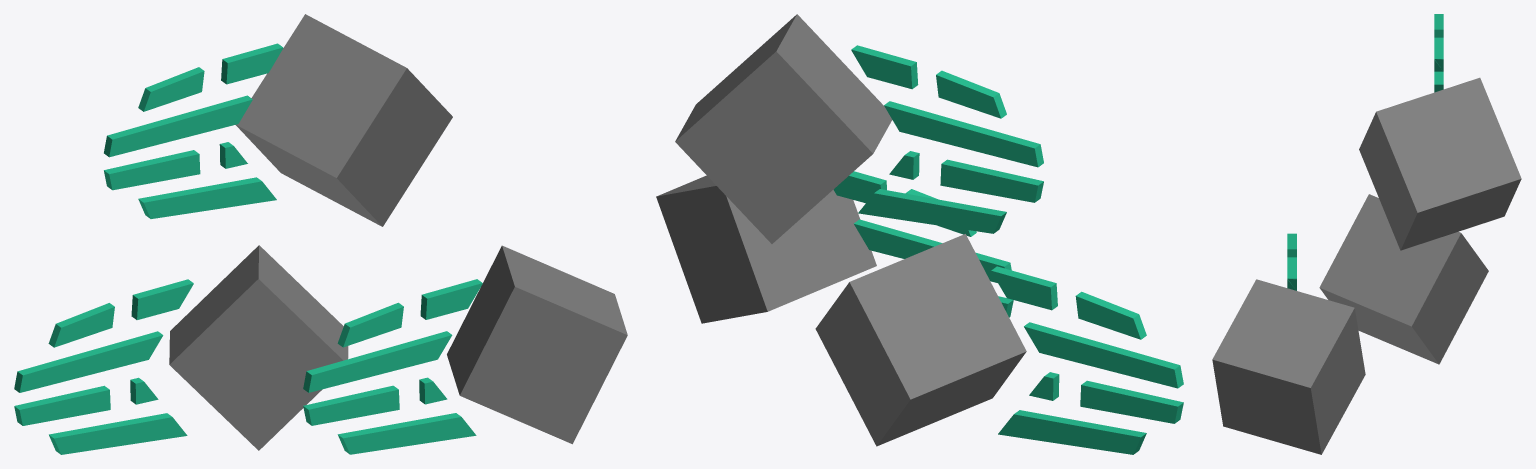
File: SM_ICON_Turret_Speed.fbx
The picture shows the model from 3 angles, left to right: view 1: azimuth 30°, elevation 25°; view 2: azimuth 150°, elevation 25°; view 3: azimuth 270°, elevation 25°; orthographic projection. The views are drawn at different scales.
Visible parts, largest first — view 1: Turret_Speed_Icon; view 2: Turret_Speed_Icon; view 3: Turret_Speed_Icon.
Boxes of the visible parts, x1,y1,x2,y2 form: Turret_Speed_Icon: (14,14,627,454); Turret_Speed_Icon: (656,14,1183,454); Turret_Speed_Icon: (1212,14,1521,454).
Size of the model in its own units: 53.02 by 34.37 by 30.47.
